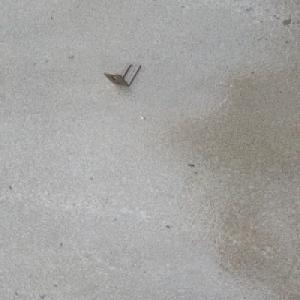MetalPart: (102, 62, 142, 86)
